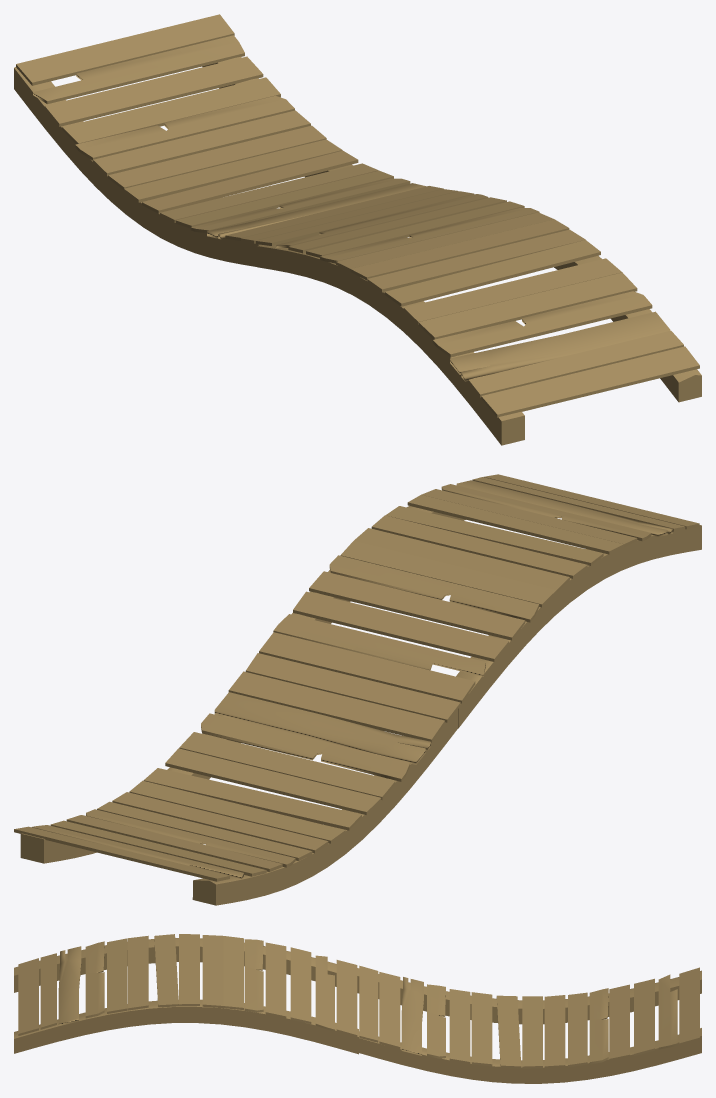
File: Road_Beam_Simple_04.fbx
3 renders of one model, top to bottom at view 1: azimuth 30°, elevation 25°; view 2: azimuth 150°, elevation 25°; view 3: azimuth 270°, elevation 25°, orthographic. The views are drawn at different scales.
Visible parts, largest first — view 1: Road_Beam_Simple_04; view 2: Road_Beam_Simple_04; view 3: Road_Beam_Simple_04.
Boxes of the visible parts, bbox=[...] form: Road_Beam_Simple_04: bbox=[14, 14, 701, 445]; Road_Beam_Simple_04: bbox=[14, 474, 701, 905]; Road_Beam_Simple_04: bbox=[14, 934, 701, 1083].
Size of the model in its own units: 148 by 78.2 by 599.
